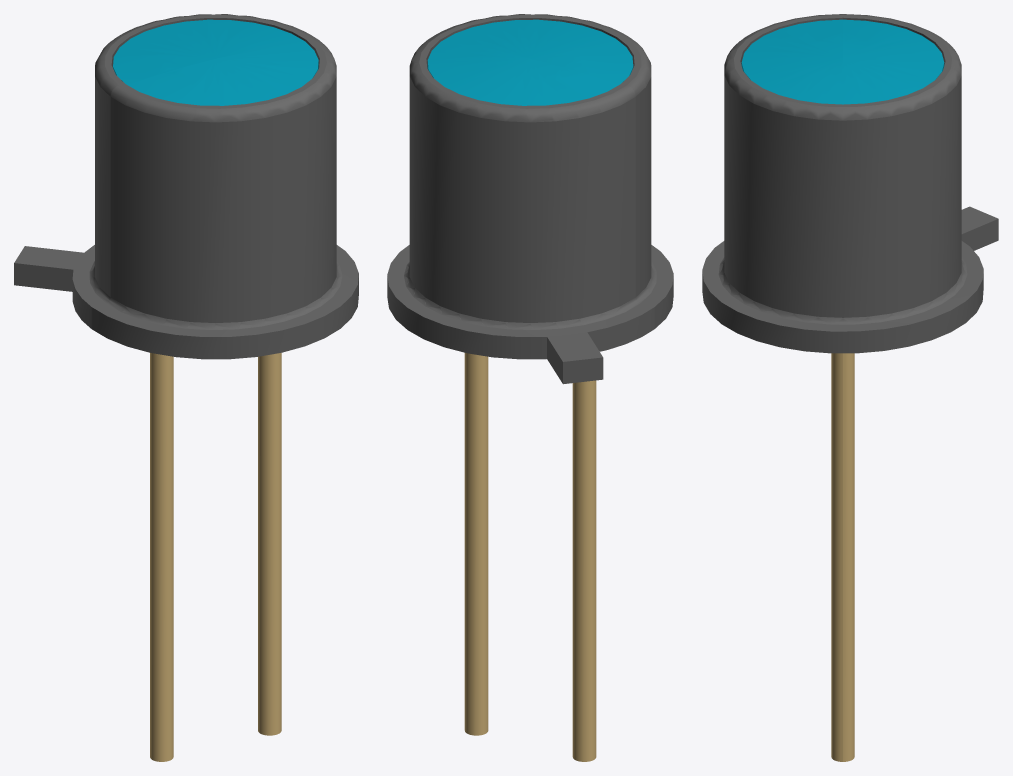
The model's file is kc-to-18-2_window.glb.
3 renders of one model, left to right at view 1: azimuth 30°, elevation 25°; view 2: azimuth 150°, elevation 25°; view 3: azimuth 270°, elevation 25°, orthographic.
Parts seen in each view (by area): view 1: 0.16666666666666666_0.16666666666666666_0.16666666666666666_, 0.75_0.5_0.25_0.9, 0_0.3333333333333333_0.5_0; view 2: 0.16666666666666666_0.16666666666666666_0.16666666666666666_, 0.75_0.5_0.25_0.9, 0_0.3333333333333333_0.5_0; view 3: 0.16666666666666666_0.16666666666666666_0.16666666666666666_, 0_0.3333333333333333_0.5_0, 0.75_0.5_0.25_0.9.
Boxes of the visible parts, x1,y1,x2,y2 form: 0.16666666666666666_0.16666666666666666_0.16666666666666666_: (14, 14, 358, 359); 0.75_0.5_0.25_0.9: (150, 353, 281, 761); 0_0.3333333333333333_0.5_0: (113, 19, 318, 105); 0.16666666666666666_0.16666666666666666_0.16666666666666666_: (387, 14, 673, 384); 0.75_0.5_0.25_0.9: (464, 353, 596, 761); 0_0.3333333333333333_0.5_0: (427, 19, 633, 105); 0.16666666666666666_0.16666666666666666_0.16666666666666666_: (702, 14, 998, 353); 0_0.3333333333333333_0.5_0: (741, 19, 944, 104); 0.75_0.5_0.25_0.9: (831, 353, 854, 761).
Size of the model in its own units: 0.6138 by 1.54 by 0.6145.
